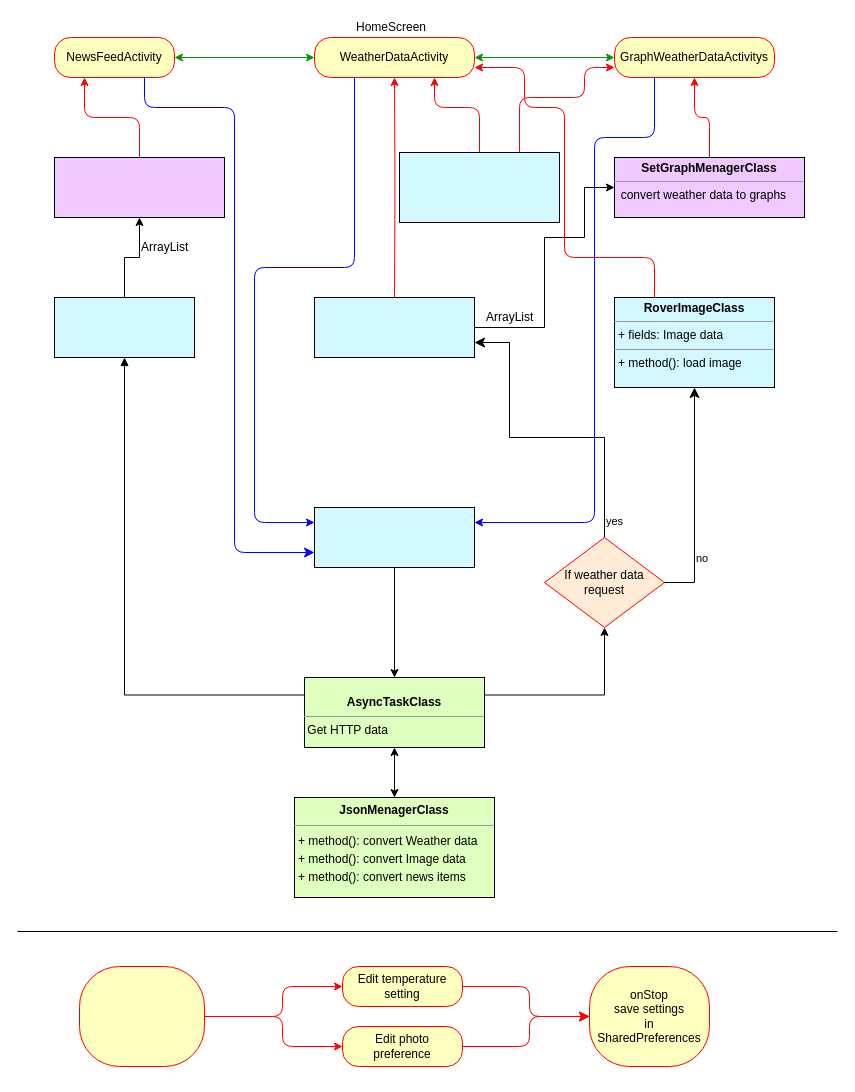
This 855x1092 diagram has some shape labels left out. Each missing label, with the centre of its shape:
HttpRequestModelClass Create HTTP request: [394,537]
NewsItemListAdapterClass Convert newsItems to listview: [139,187]
NewsItemModelClass News item fields: [124,327]
onCreate restore settings through SharedPreferences: [141,1016]
SettingsModelClass + field: Bool showCelsius + field: String cameraImg: [479,187]
WeatherDataModelClass weather data fields: [394,327]
